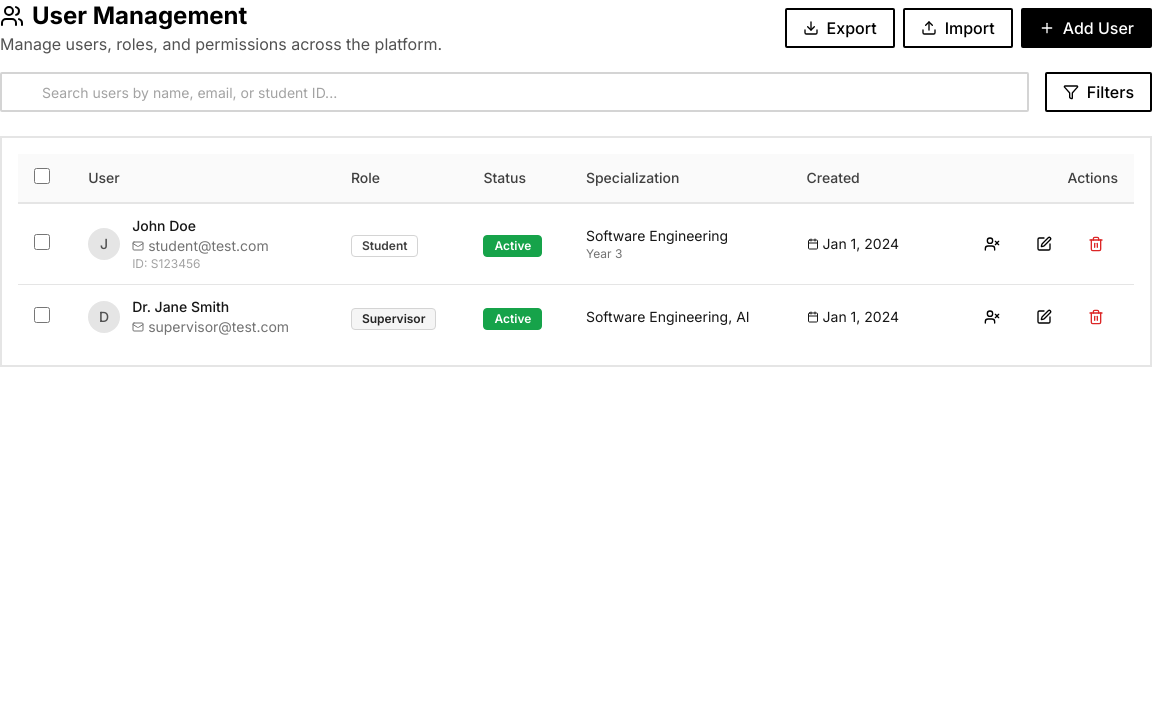
UserManagement › opens create user modal when add user button is clicked
Click the button "Add User" at (1086, 28), box [1021,8,1151,48]
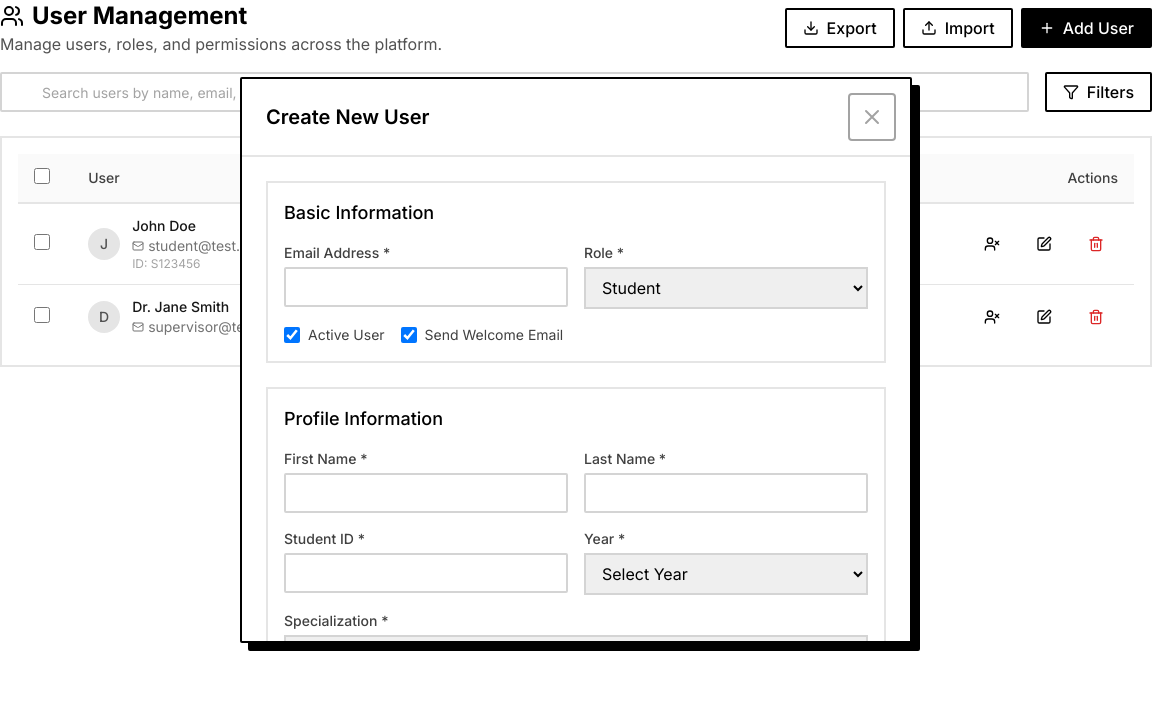
Now the heading "Create New User" is shown, box [266,105,430,129]
